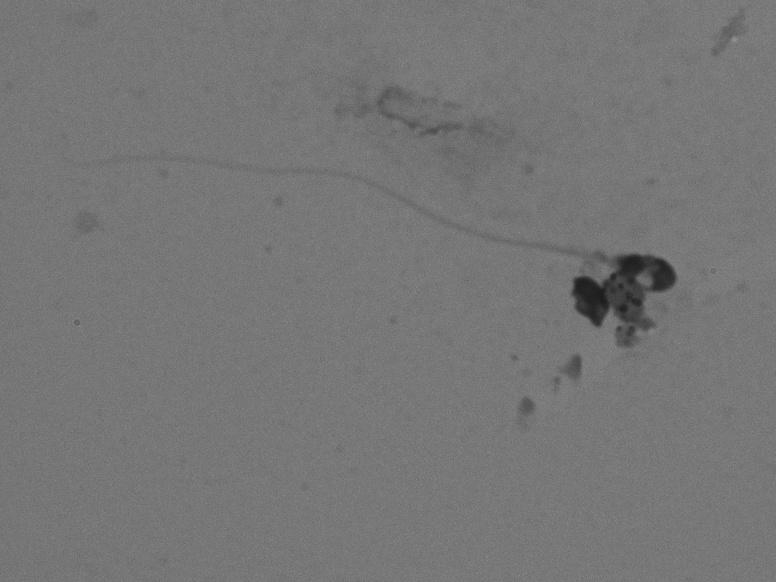Abnormal: (51, 134, 700, 303)
